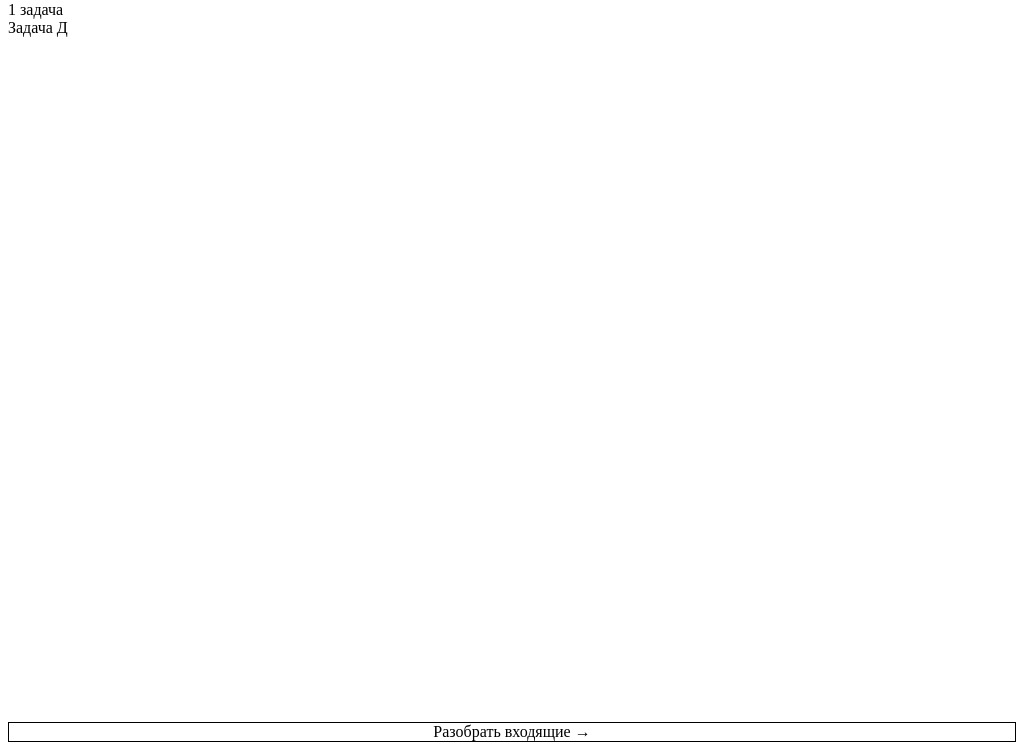
Inbox — действия карточки › «Удалить» soft-удаляет задачу (tombstone) — пропадает из Входящих
(page scrolled)
Expected: the text "Задача Д" is shown, x1=8 y1=19 x2=68 y2=37
Click the button "Разобрать входящие →". click: click(512, 732)
box: x1=8 y1=722 x2=1016 y2=742
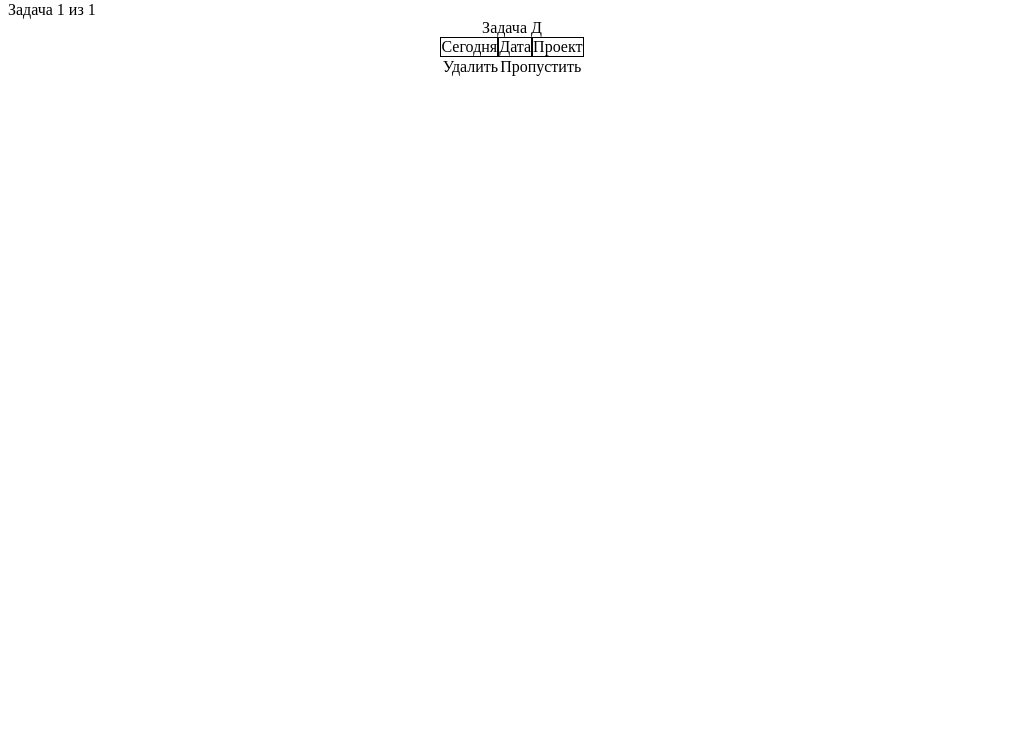
Click the button "Удалить". click: click(470, 67)
box: x1=442 y1=57 x2=499 y2=77
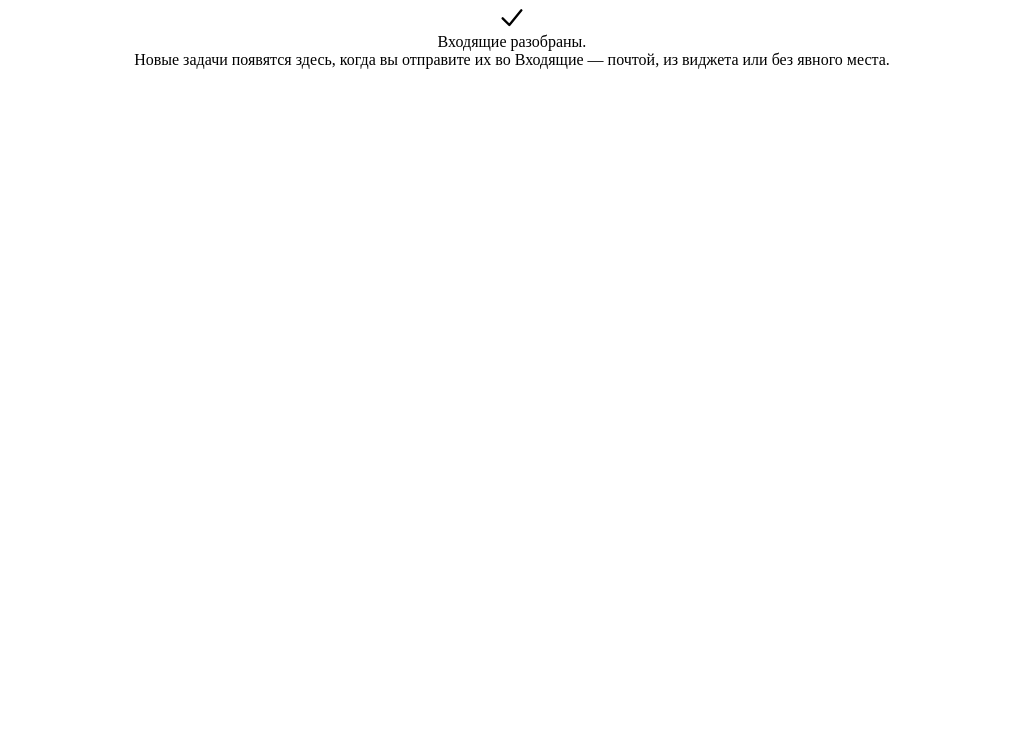
Expected: the text "Входящие разобраны." is shown, x1=438 y1=33 x2=586 y2=51
